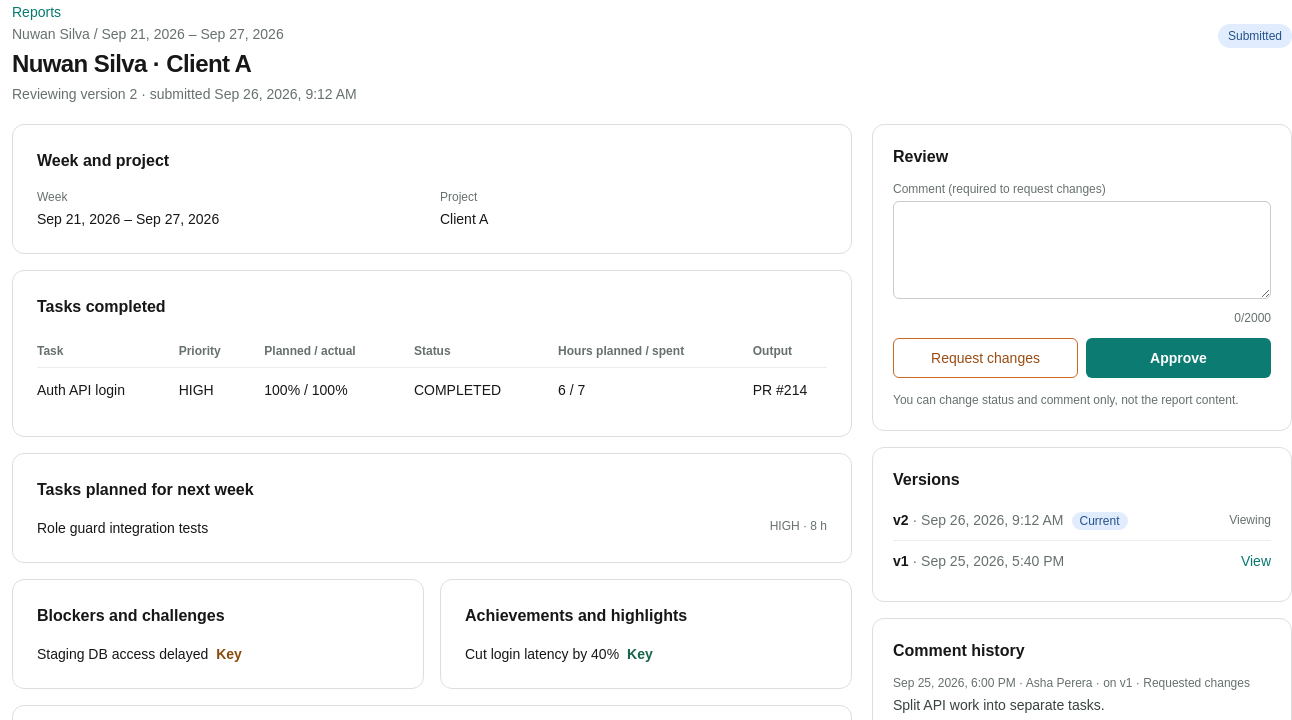
Test: ManagerReportReviewPage › loads the selected historical snapshot and prevents reviewing it
The width and height of the screenshot is (1292, 720).
Click the button "View": (1256, 561) [1241, 551, 1271, 571]
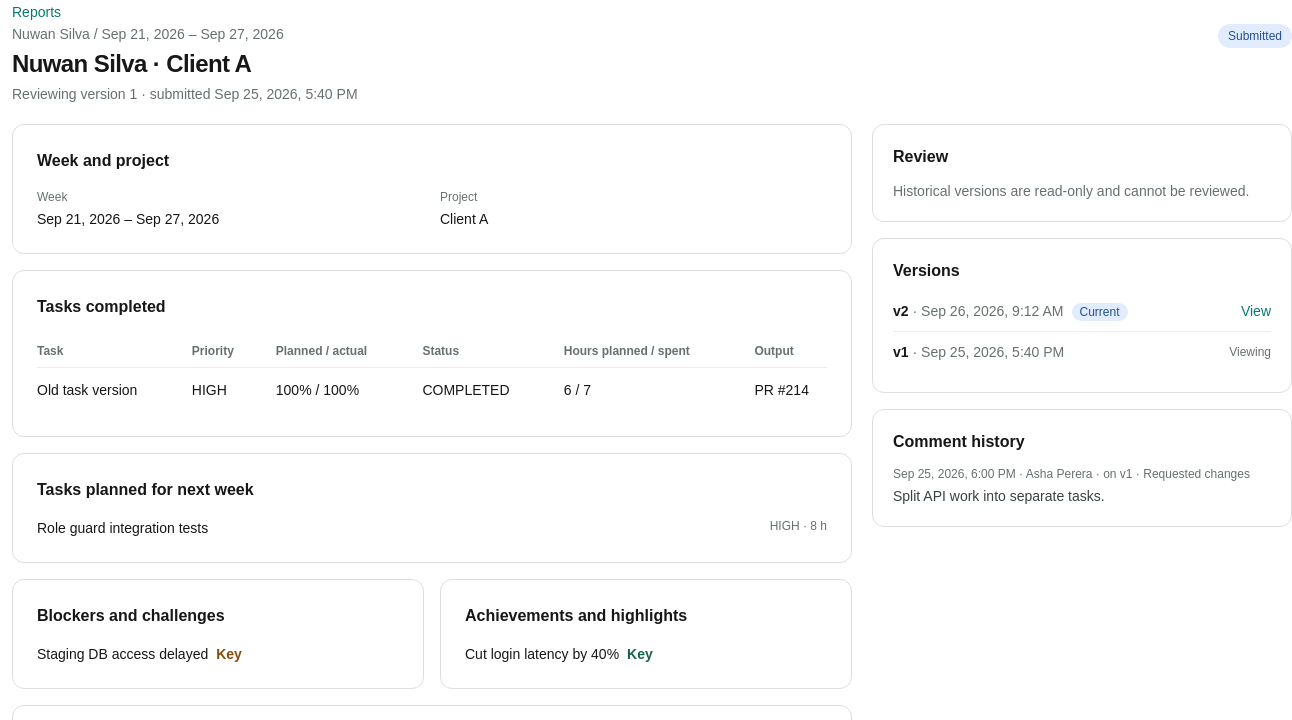
Expected: the text "Old task version" is shown, [37, 368, 180, 412]
Expected: the text "Historical versions are read-only and cannot be reviewed." is shown, [893, 181, 1271, 201]
Expected: the button "Approve" is gone
